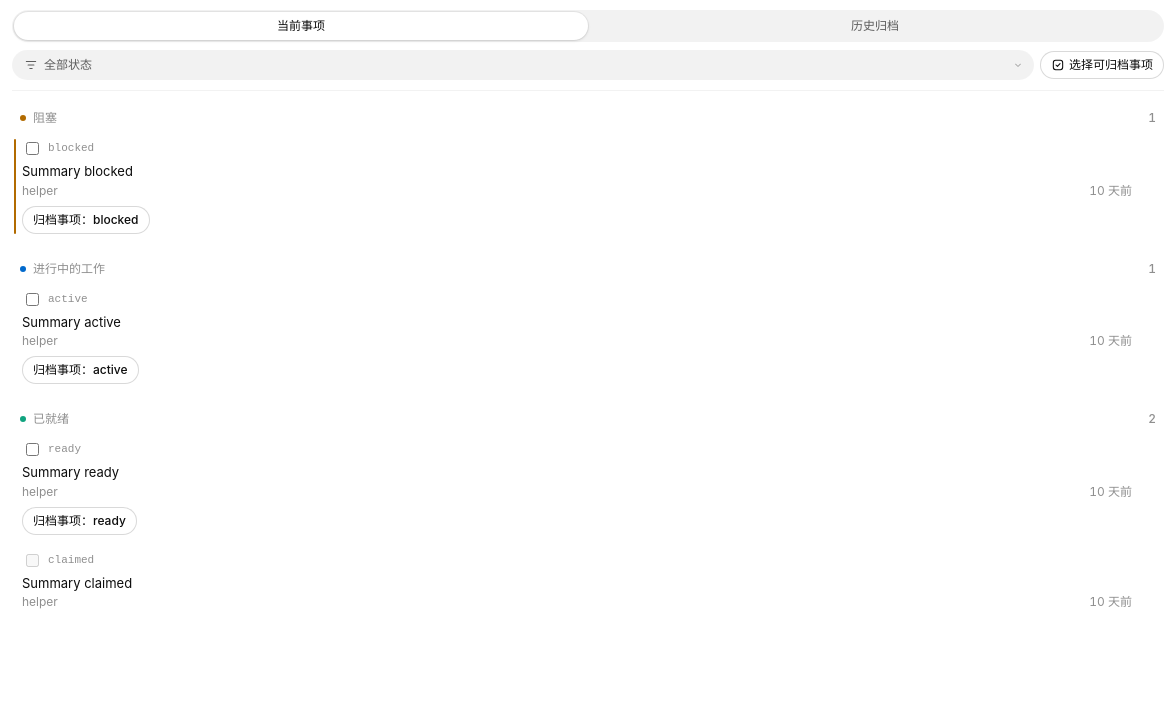
Test case: WhiteboardPanel lifecycle › defaults to current items, filters slots and disables protected selections
This screenshot has width=1176, height=720.
Expected: the checkbox named "选择事项：claimed" is disabled, [26,554,39,566]
Select "阻塞" in the dropdown named "状态筛选" at (523, 65), box [12,50,1034,80]
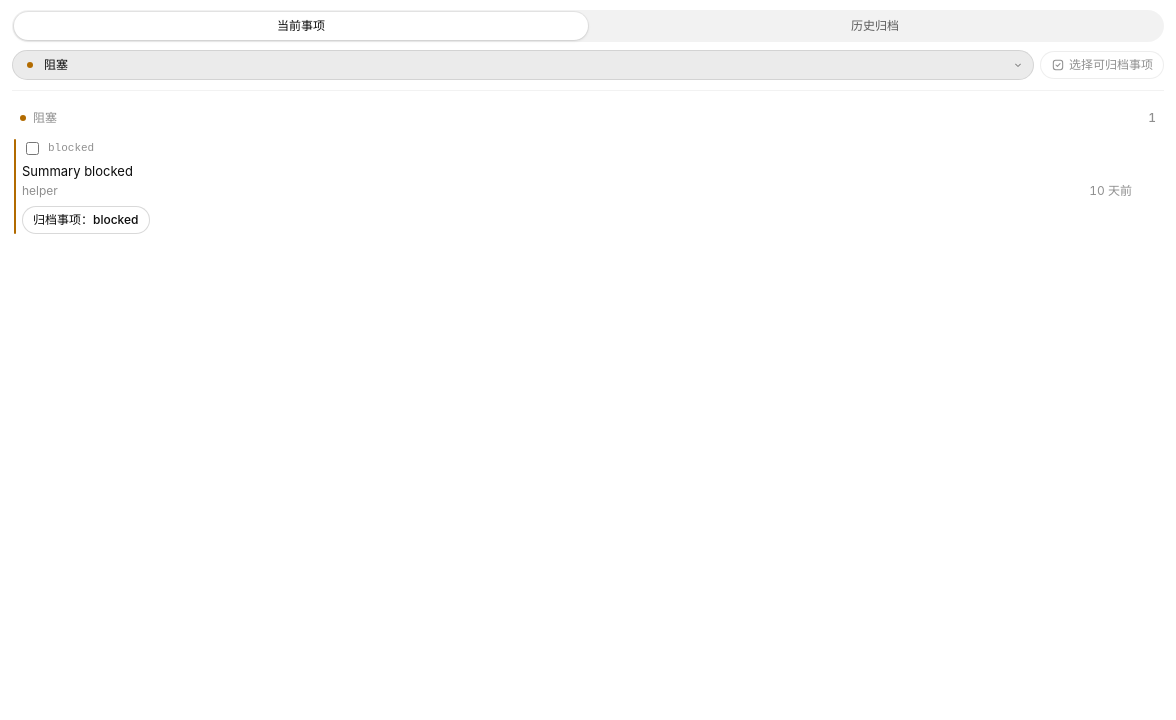
Expected: the text "Summary blocked" is shown, [22,163,133,179]
Expected: the text "Summary ready" is gone
